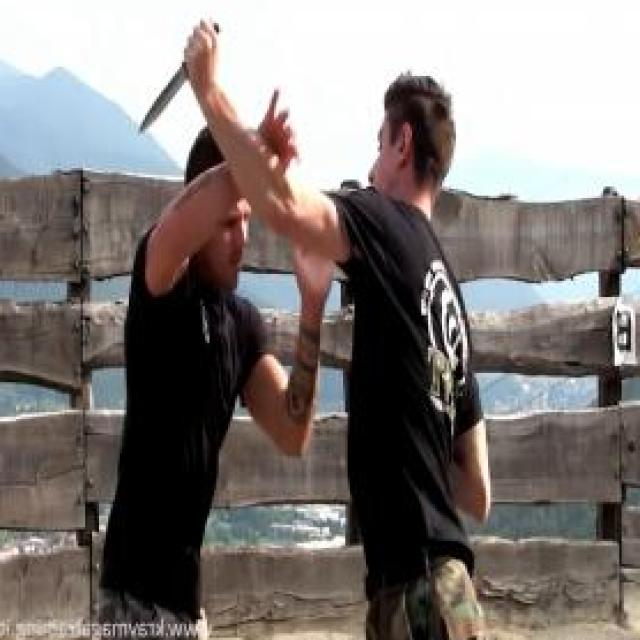knife: (134, 16, 226, 143)
